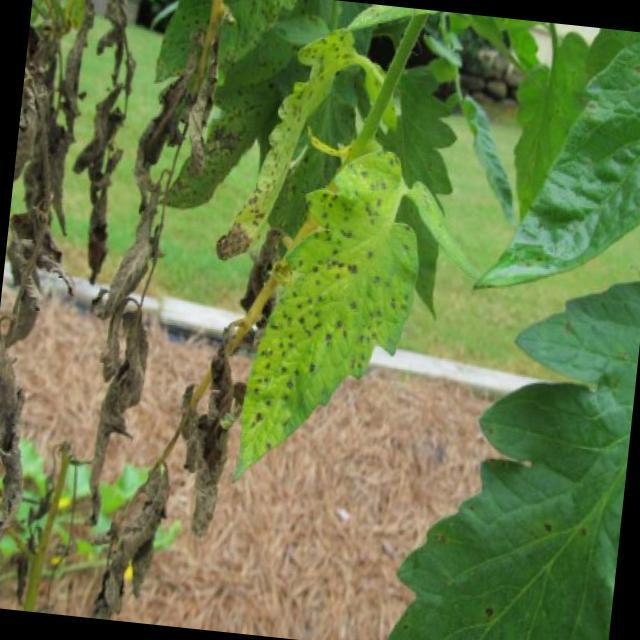Tomato leaf bacterial spot: (236, 148, 418, 496)
